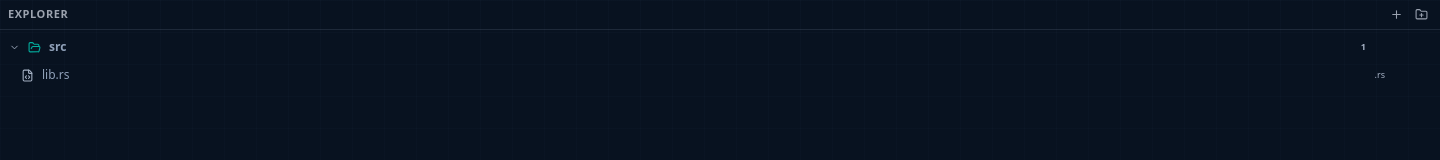
Scenario: FileTree › folder › toggles open again on a second click
Click the button "src 1".
click(14, 47)  # box left=0, top=34, right=1439, bottom=60
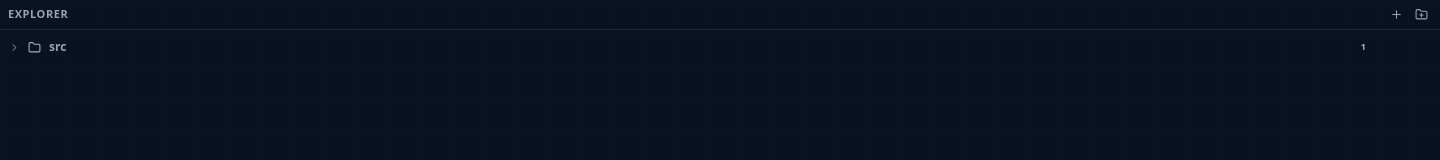
Click the button "src 1".
click(14, 47)  # box left=0, top=34, right=1439, bottom=60
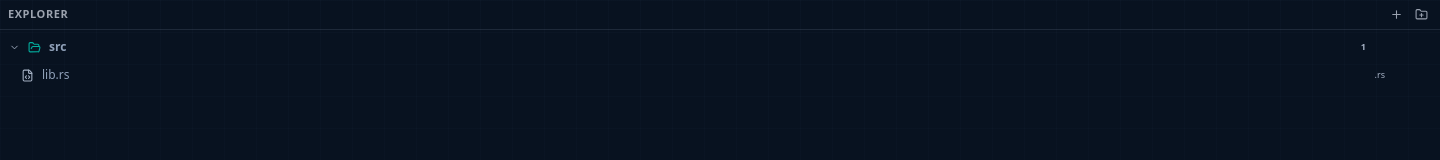
Expected: the text "lib.rs" is shown, left=42, top=67, right=70, bottom=83
